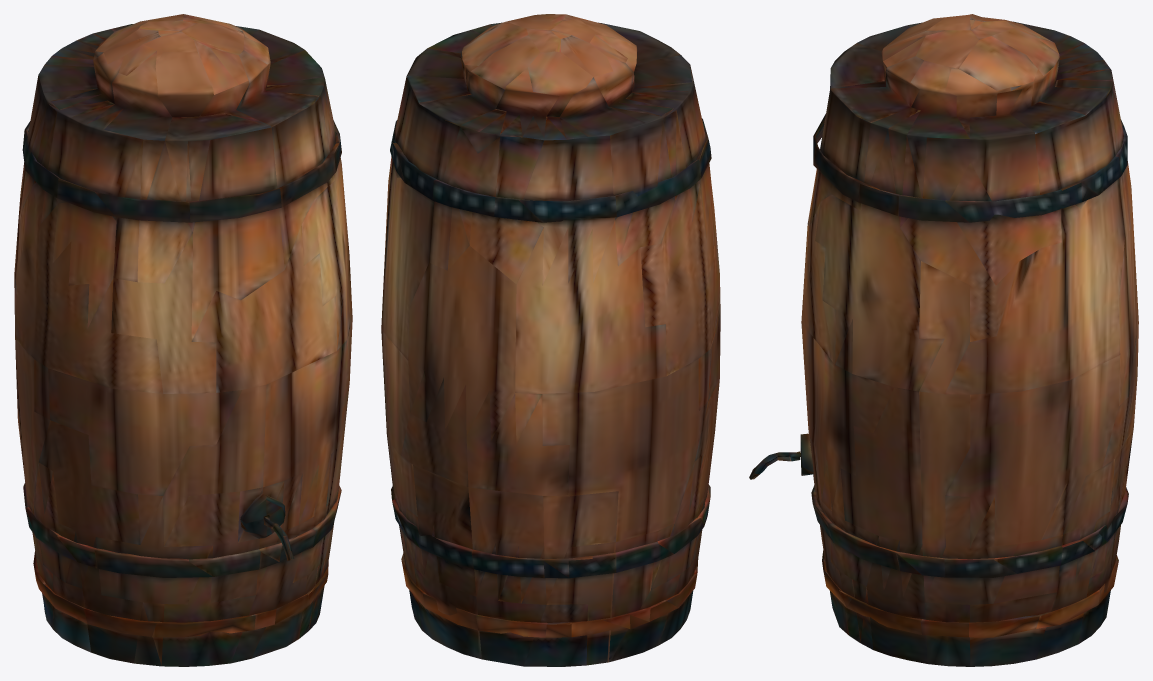
The model's file is barrel-small.lod1.glb.
3 views of the same model, side by side, from view 1: azimuth 30°, elevation 25°; view 2: azimuth 150°, elevation 25°; view 3: azimuth 270°, elevation 25° (orthographic).
Size of the model in its own units: 0.3223 by 0.6 by 0.3668.
1 material, 1 textured.
